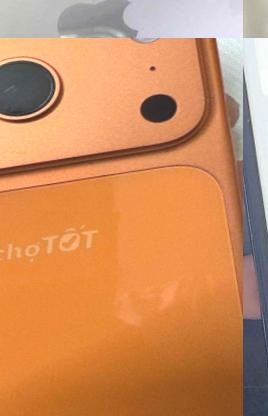scratch: (243, 182, 268, 416), (243, 107, 265, 135)
